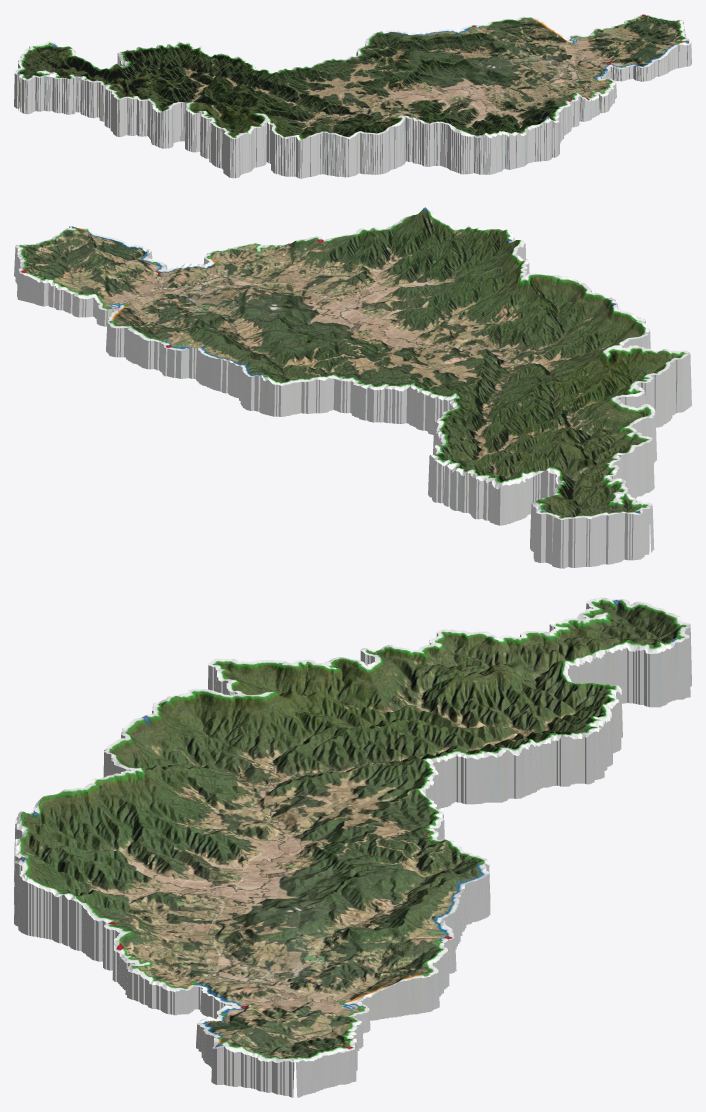
3 views of the same model, one above another, from view 1: azimuth 30°, elevation 25°; view 2: azimuth 150°, elevation 25°; view 3: azimuth 270°, elevation 25° (orthographic). The views are drawn at different scales.
Bounding box in the file's own units: 1 × 0.0724 × 0.6421.
1 material, 1 textured.
